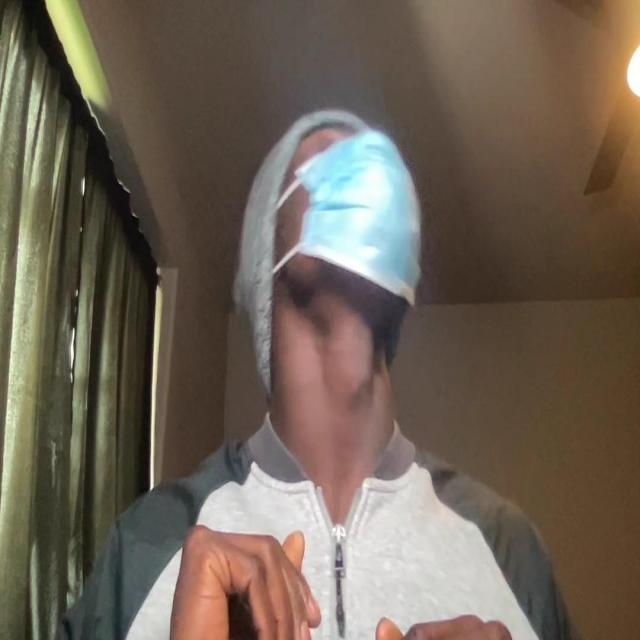face: (276, 108, 424, 340)
